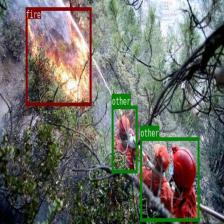fire: (25, 7, 91, 105)
